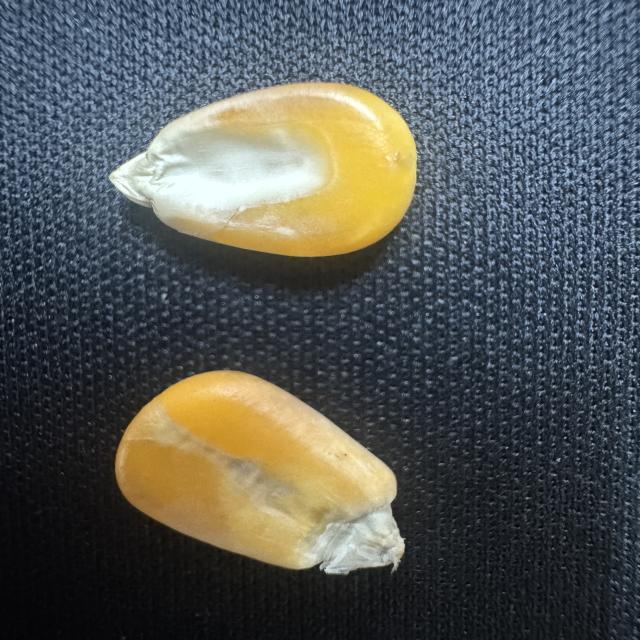Good-Seed: (110, 363, 412, 579), (103, 76, 423, 262)
